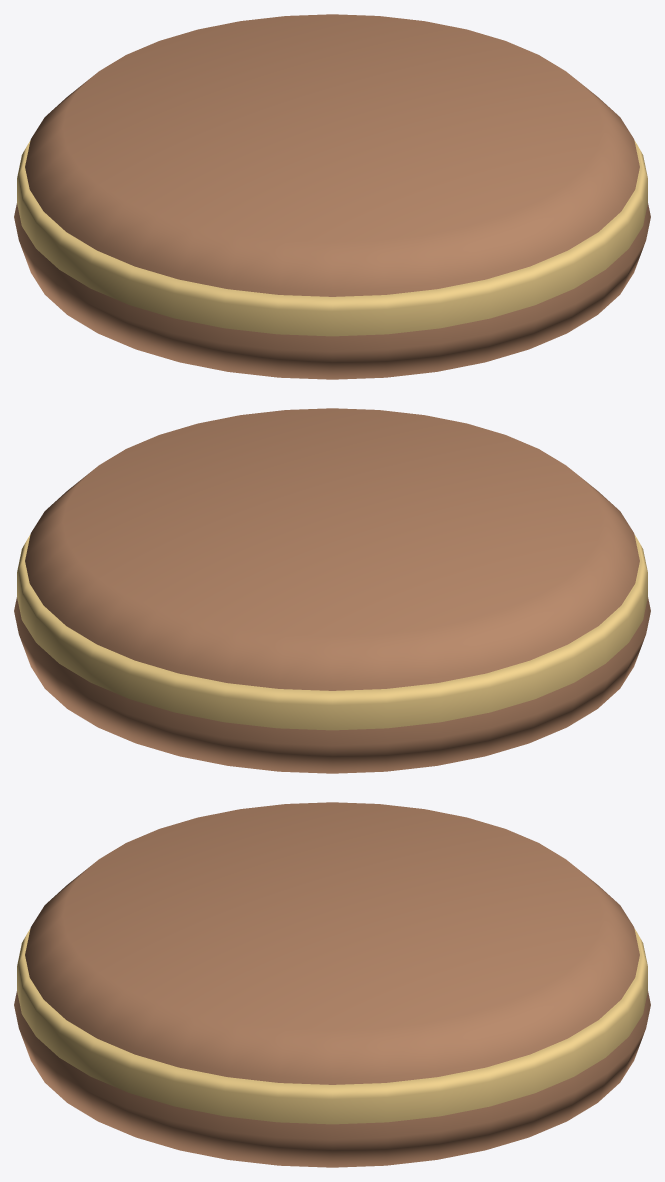
File: block.glb
The picture shows the model from 3 angles, top to bottom: view 1: azimuth 30°, elevation 25°; view 2: azimuth 150°, elevation 25°; view 3: azimuth 270°, elevation 25°; orthographic projection.
Parts seen in each view (by area): view 1: block, ring; view 2: block, ring; view 3: block, ring.
Part boxes in pixels (bbox=[...]): block: bbox=[14, 14, 650, 379]; ring: bbox=[17, 140, 647, 336]; block: bbox=[14, 408, 650, 773]; ring: bbox=[17, 534, 647, 730]; block: bbox=[14, 802, 650, 1167]; ring: bbox=[17, 928, 647, 1124].
Size of the model in its own units: 0.104 by 0.022 by 0.104.
